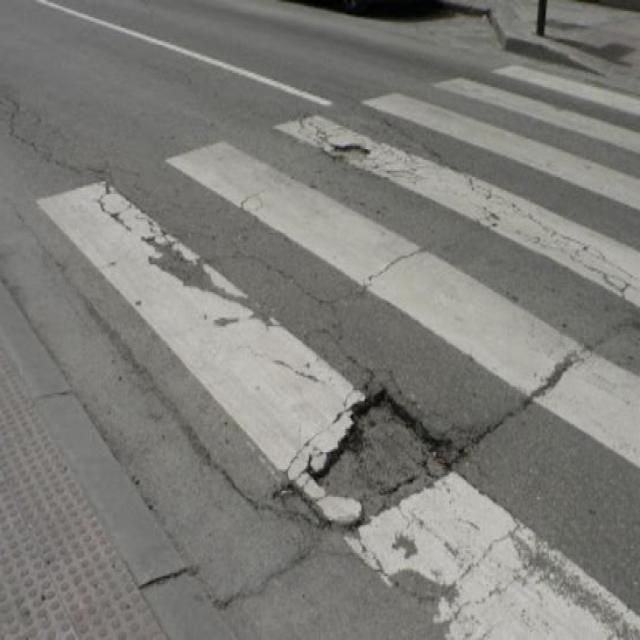Pothole: (280, 385, 464, 522)
